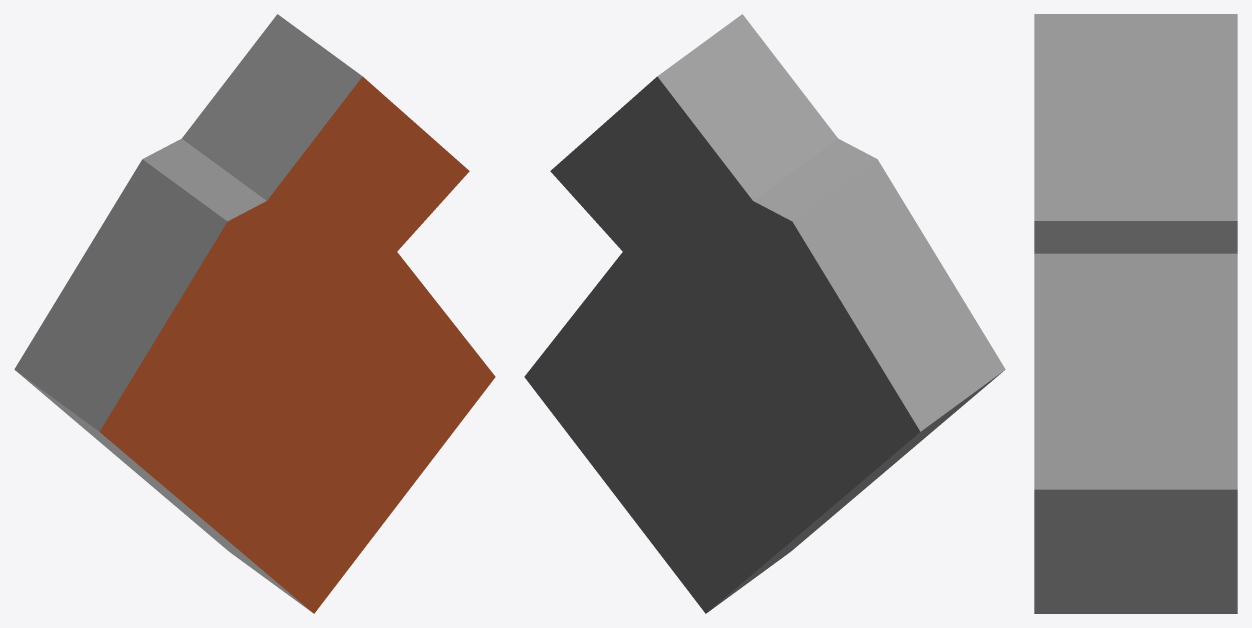
The model's file is construction_0223_assumed_A_Casa_h6m.obj.
3 renders of one model, left to right at view 1: azimuth 30°, elevation 25°; view 2: azimuth 150°, elevation 25°; view 3: azimuth 270°, elevation 25°, orthographic. The views are drawn at different scales.
Visible parts, largest first — view 1: construction_0223_assumed_A_Casa; view 2: construction_0223_assumed_A_Casa; view 3: construction_0223_assumed_A_Casa.
Part boxes in pixels (bbox=[...]): construction_0223_assumed_A_Casa: bbox=[14, 14, 495, 613]; construction_0223_assumed_A_Casa: bbox=[524, 14, 1005, 613]; construction_0223_assumed_A_Casa: bbox=[1034, 14, 1237, 613].
Bounding box in the file's own units: 16.11 × 20.43 × 6.
